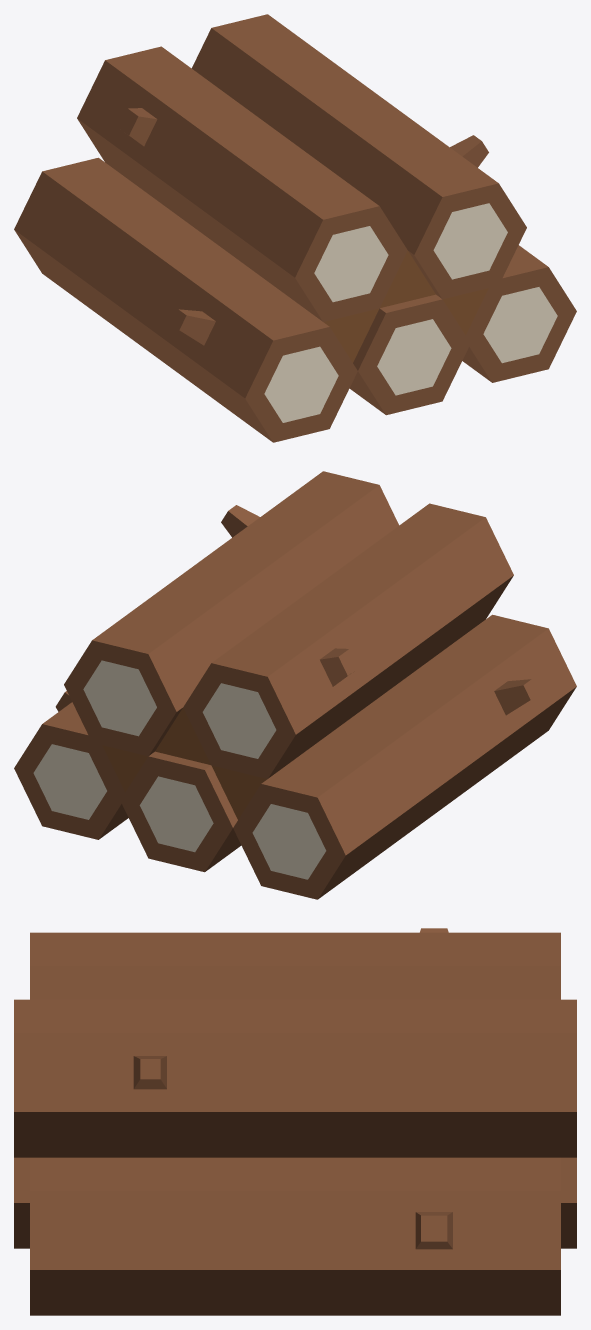
The model's file is log_stack.glb.
3 views of the same model, one above another, from view 1: azimuth 30°, elevation 25°; view 2: azimuth 150°, elevation 25°; view 3: azimuth 270°, elevation 25° (orthographic). The views are drawn at different scales.
Visible parts, largest first — view 1: log_stackLarge; view 2: log_stackLarge; view 3: log_stackLarge.
Boxes of the visible parts, x1=… form: log_stackLarge: x1=14, y1=14, x2=576, y2=442; log_stackLarge: x1=14, y1=471, x2=576, y2=899; log_stackLarge: x1=14, y1=928, x2=576, y2=1315.
Bounding box in the file's own units: 1.01 × 0.5543 × 1.14.
